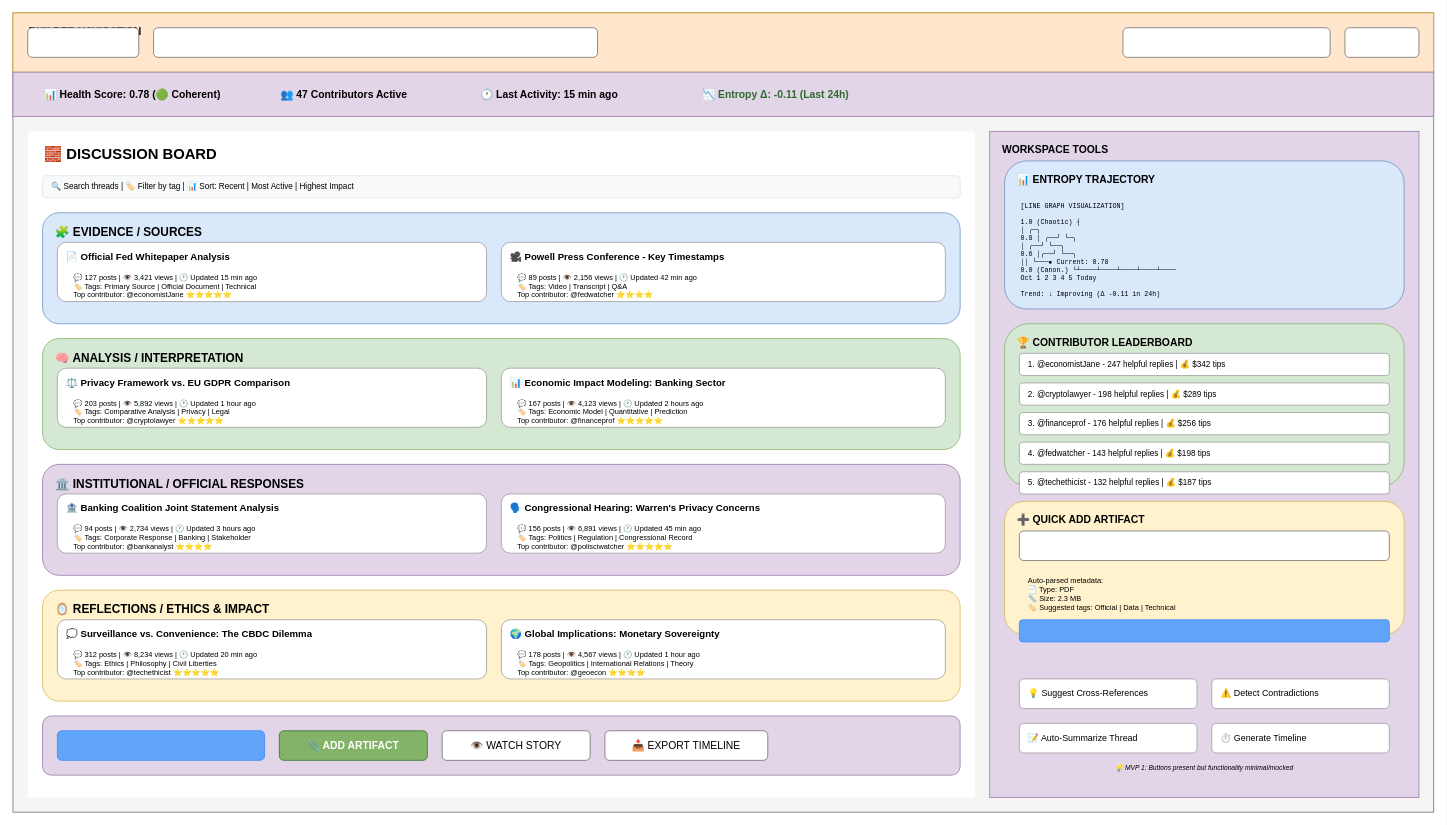
Some shapes in this 1447 by 825 pixel diagram are drawn without their labels. The shapes that lost their labels are listed below. From the top down, each one's centre as x and y in pixels, then its label:
At point (83, 42): "← Back to Story".
At point (375, 42): "🏛️ Federal Reserve CBDC Framework - BUILDER MODE".
At point (1226, 42): "➕ New Thread | 📎 Add Artifact | 💾 Save Draft".
At point (1381, 42): "👤 Profile".
At point (1204, 545): "🔗 Paste URL or upload file...".
At point (1204, 630): "ADD TO THREAD".
At point (161, 745): "➕ CREATE NEW THREAD".
